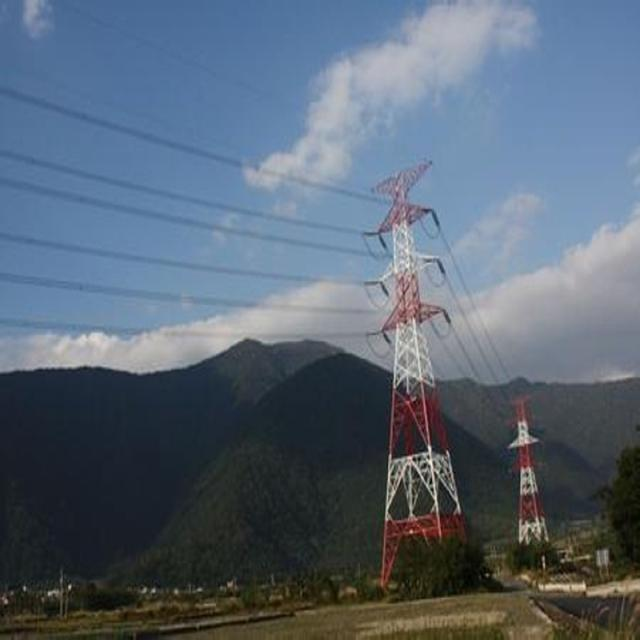non-critical vegetation: (360, 158, 474, 588), (504, 384, 550, 568)
